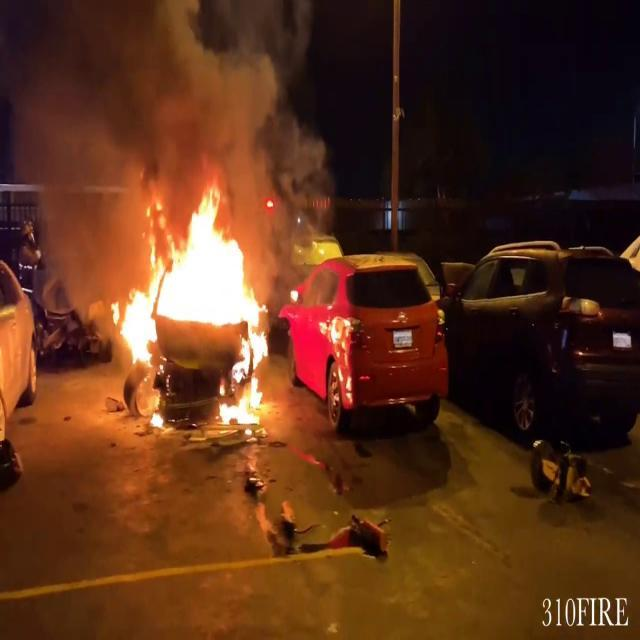Fire: (108, 180, 274, 424), (147, 401, 168, 431)
Smoke: (0, 0, 344, 244)
